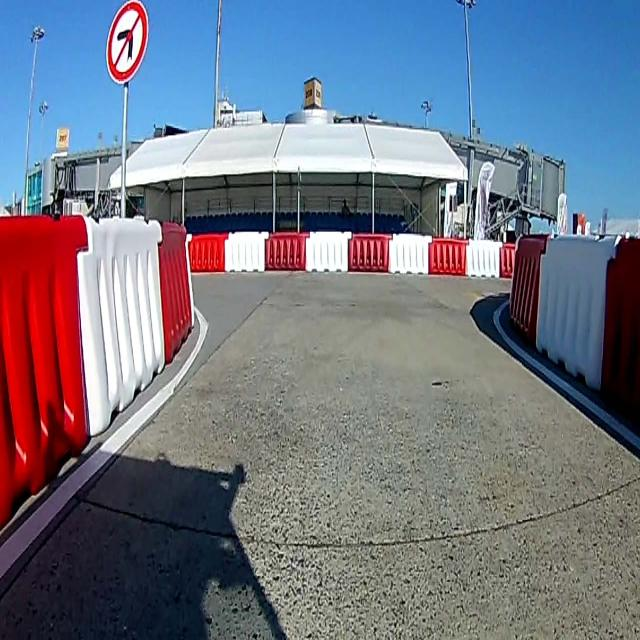soladonulmez: (106, 5, 148, 79)
